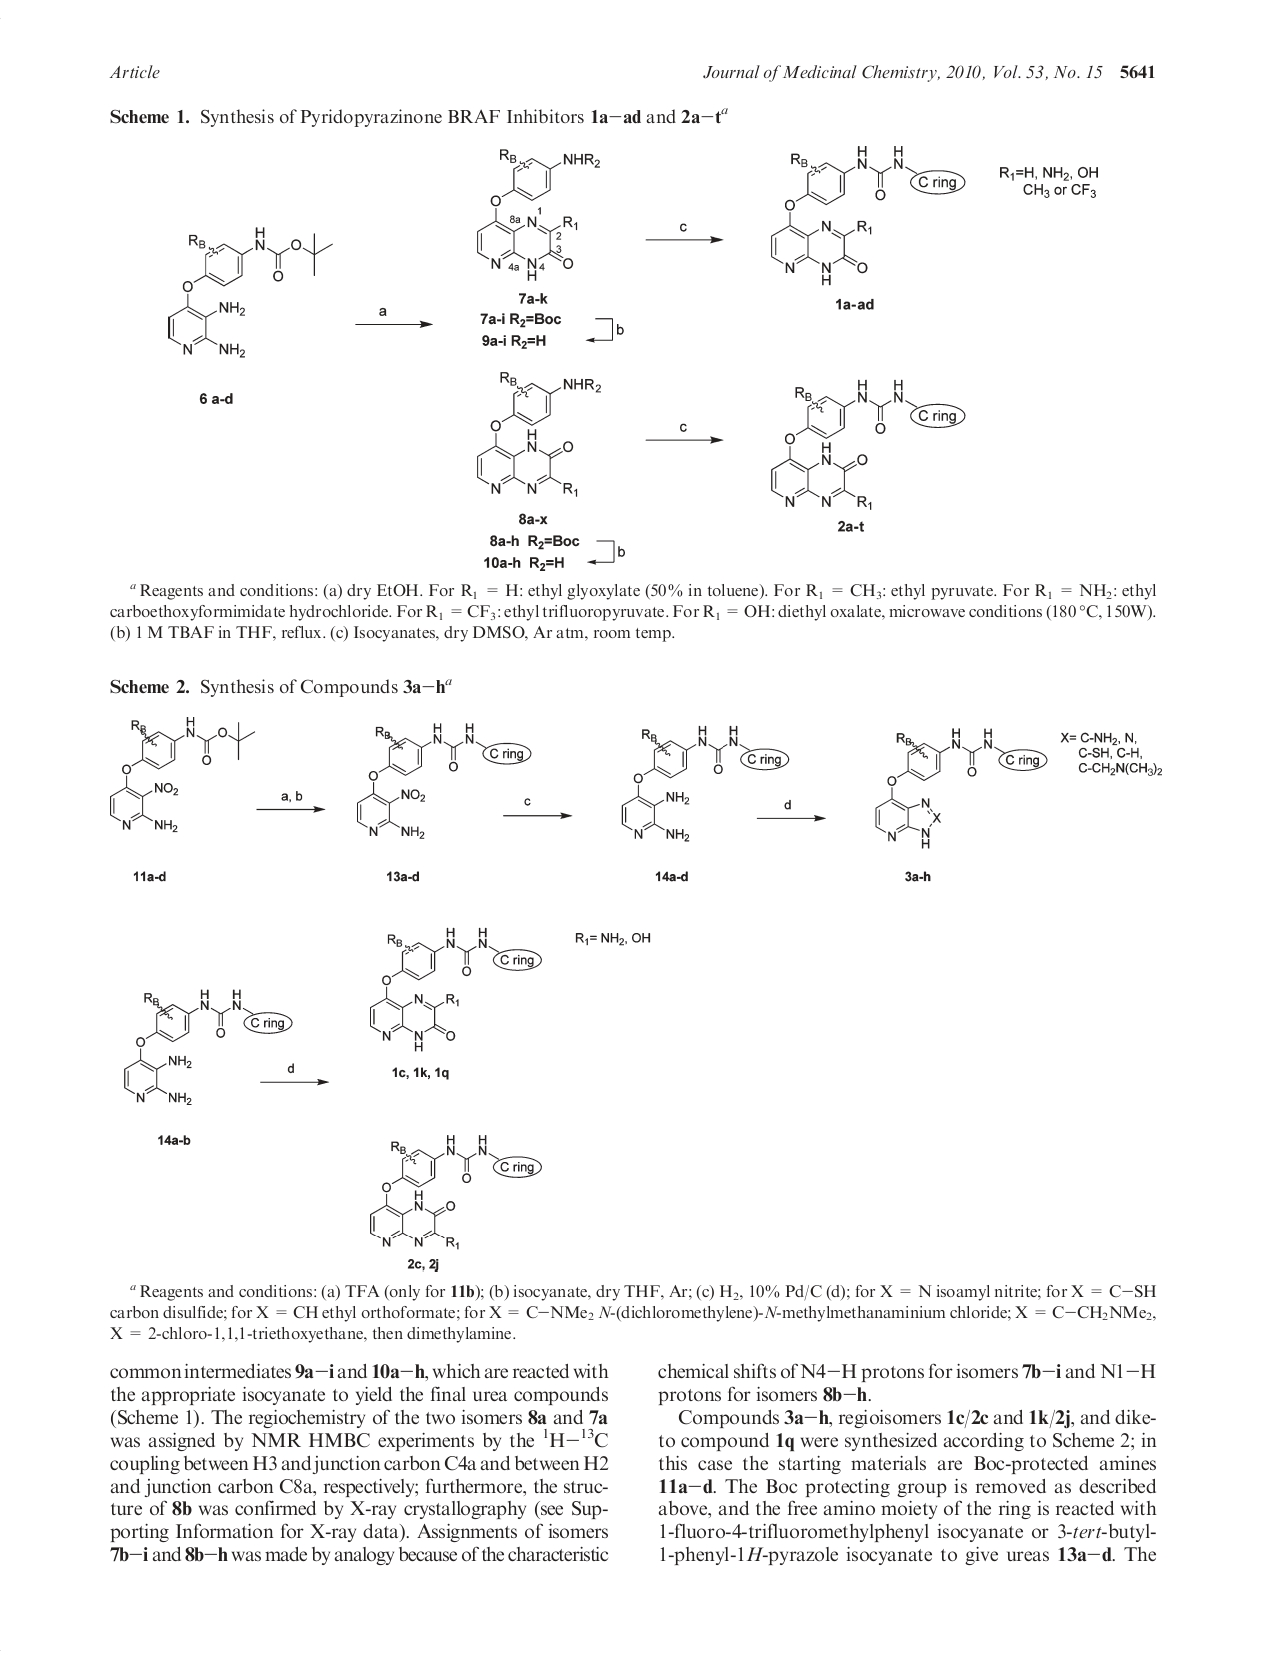exist_molecular: (769, 144, 967, 285), (770, 376, 965, 508), (367, 923, 544, 1055), (165, 226, 336, 359), (872, 723, 1047, 851), (352, 721, 531, 839), (368, 1133, 545, 1251), (122, 989, 295, 1106), (622, 723, 789, 842), (106, 715, 258, 833), (477, 148, 605, 283), (476, 368, 602, 493)
